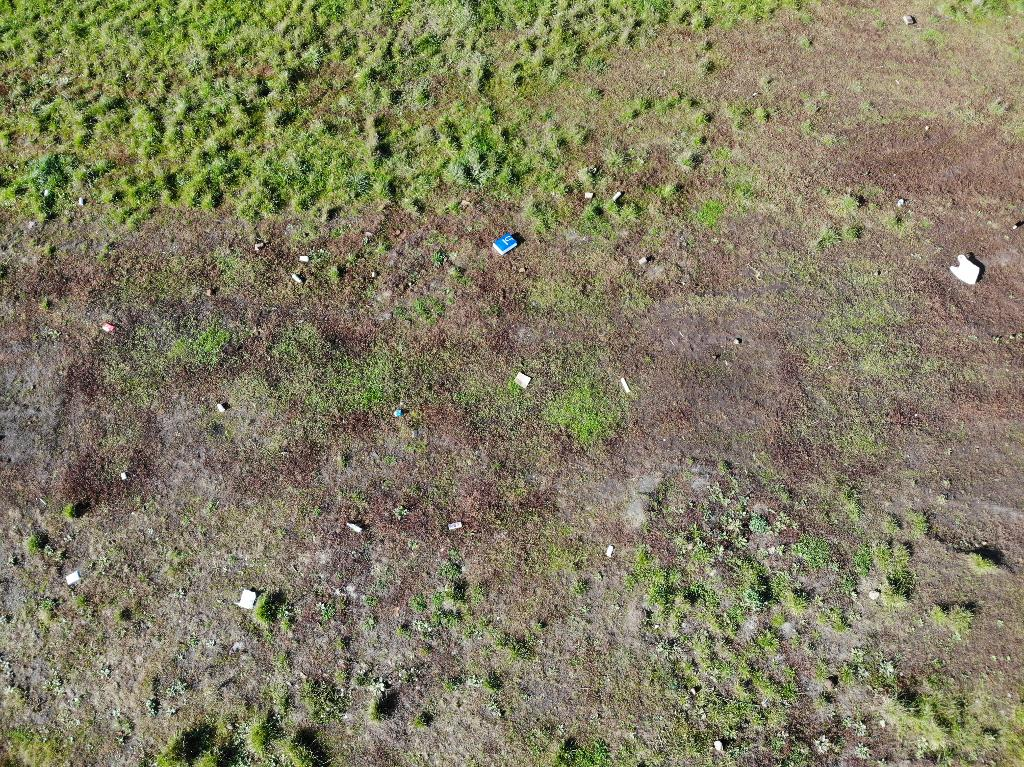garbage: (949, 249, 986, 287), (235, 585, 260, 615), (346, 522, 364, 534), (292, 274, 303, 284), (300, 254, 309, 263)
